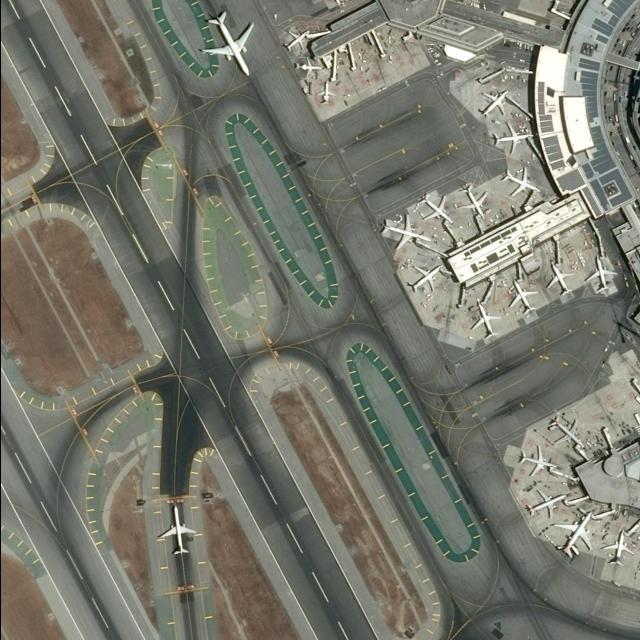Aircraft: (199, 9, 255, 77), (154, 503, 198, 555), (551, 511, 591, 559), (381, 215, 431, 249), (547, 411, 585, 447), (499, 165, 541, 197), (512, 444, 554, 475), (418, 193, 458, 224), (506, 275, 536, 314), (491, 123, 529, 153), (602, 530, 630, 570), (468, 300, 497, 338), (404, 262, 438, 294), (474, 87, 510, 117), (545, 261, 573, 299), (584, 256, 615, 290), (457, 185, 487, 217), (283, 29, 308, 52), (293, 58, 318, 78), (316, 81, 334, 103)
